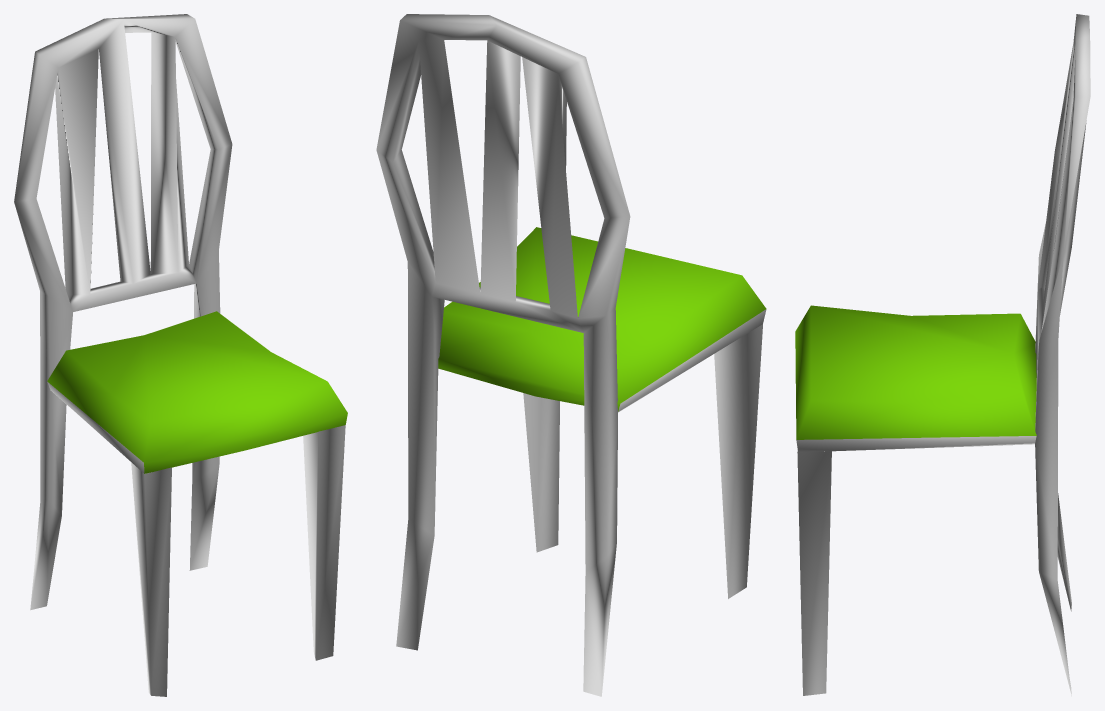
File: Cushioned Char 03_COLLIDER.fbx
The picture shows the model from 3 angles, left to right: view 1: azimuth 30°, elevation 25°; view 2: azimuth 150°, elevation 25°; view 3: azimuth 270°, elevation 25°; orthographic projection. The views are drawn at different scales.
Parts seen in each view (by area): view 1: Cushioned_Chair_03_COLLIDER; view 2: Cushioned_Chair_03_COLLIDER; view 3: Cushioned_Chair_03_COLLIDER.
Boxes of the visible parts, left/top/right/bottom form: Cushioned_Chair_03_COLLIDER: left=14, top=14, right=347, bottom=696; Cushioned_Chair_03_COLLIDER: left=376, top=14, right=766, bottom=696; Cushioned_Chair_03_COLLIDER: left=795, top=14, right=1090, bottom=696.
Size of the model in its own units: 62.07 by 154 by 67.09.
